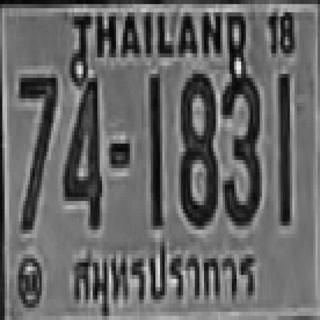N01: (276, 70, 290, 222), (148, 74, 160, 226)
N03: (220, 70, 260, 222)
N04: (62, 66, 101, 226)
N07: (17, 72, 57, 228)
N08: (178, 70, 216, 226)
P57: (69, 238, 259, 315)
